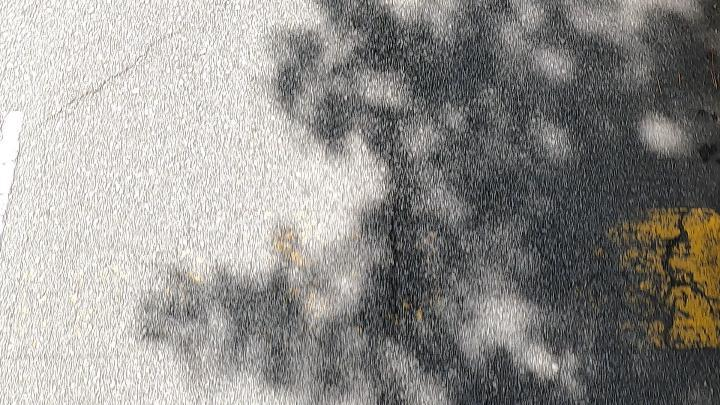Crack: (3, 28, 188, 231), (3, 28, 181, 223)
